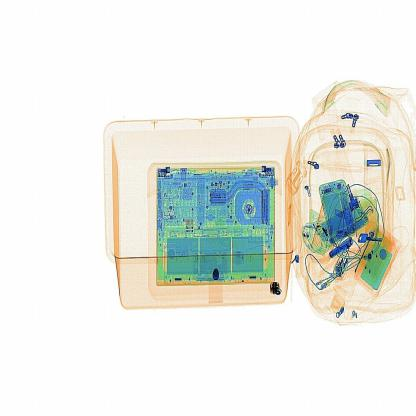scissors: (270, 281, 284, 299)
